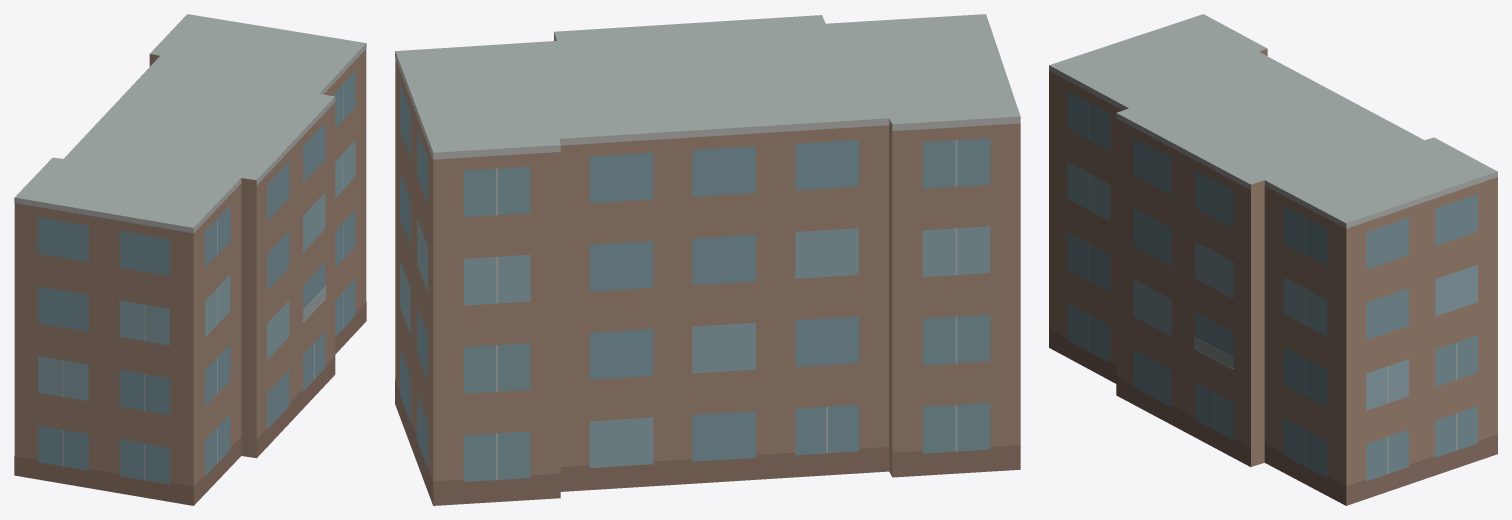
The model's file is survey-upis-32725026.glb.
3 renders of one model, left to right at view 1: azimuth 30°, elevation 25°; view 2: azimuth 150°, elevation 25°; view 3: azimuth 270°, elevation 25°, orthographic. The views are drawn at different scales.
Visible parts, largest first — view 1: survey-upis-32725026.tmp; view 2: survey-upis-32725026.tmp; view 3: survey-upis-32725026.tmp.
Part boxes in pixels (bbox=[...]): survey-upis-32725026.tmp: bbox=[14, 14, 366, 505]; survey-upis-32725026.tmp: bbox=[395, 14, 1020, 505]; survey-upis-32725026.tmp: bbox=[1049, 14, 1497, 505].
Size of the model in its own units: 20.04 by 12.6 by 18.15.
